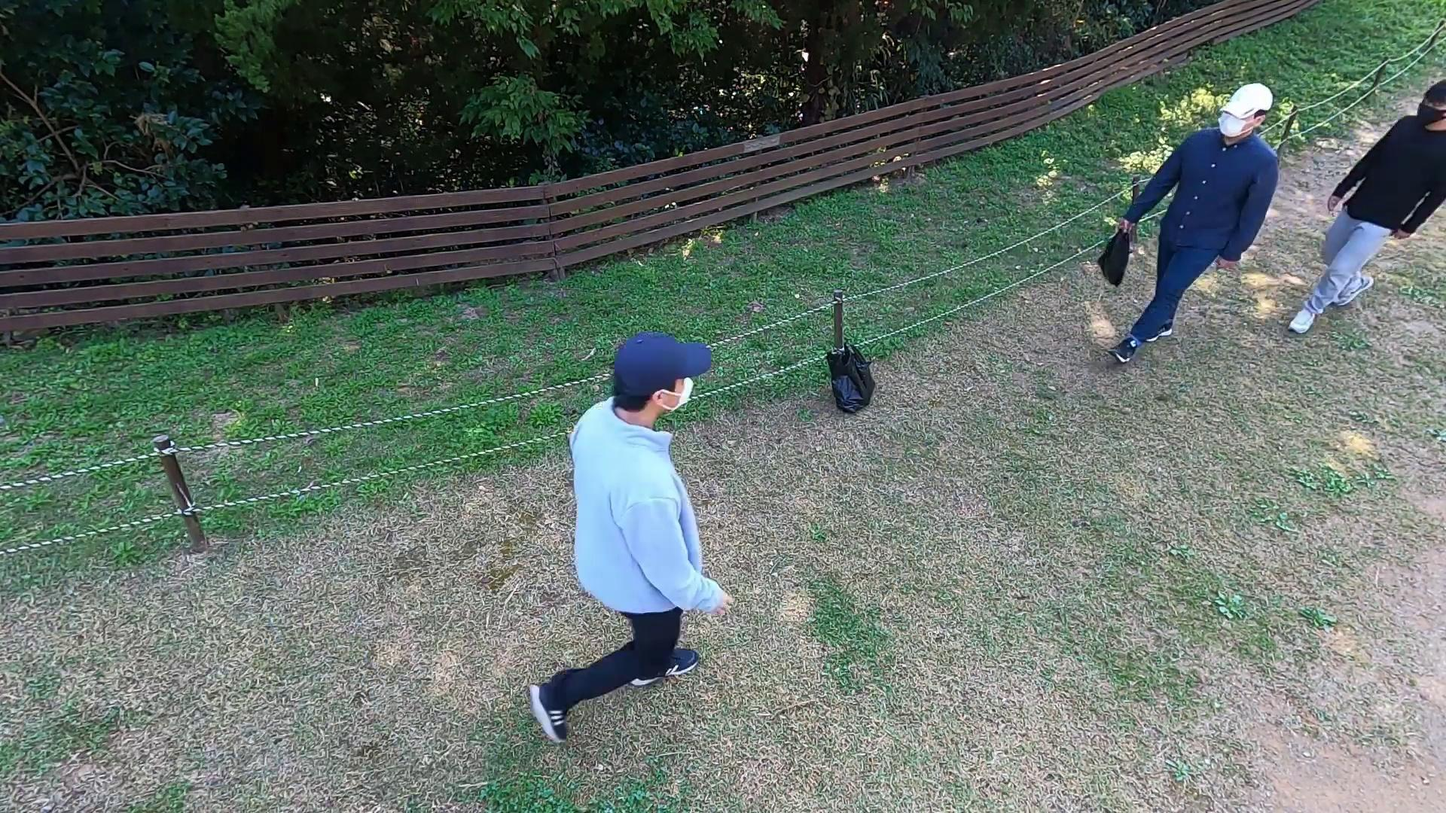person: (520, 324, 744, 744), (1102, 61, 1284, 368), (1290, 64, 1446, 346)
trash: (1095, 221, 1142, 286)
